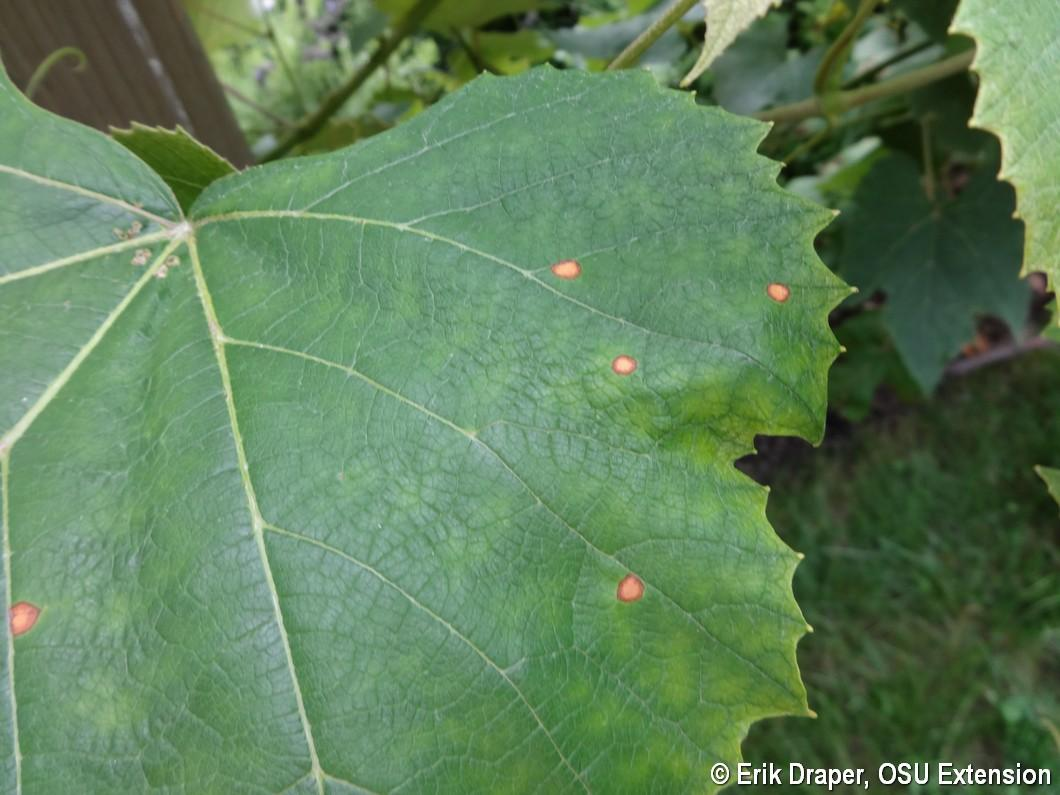grape leaf: (1, 58, 859, 732)
